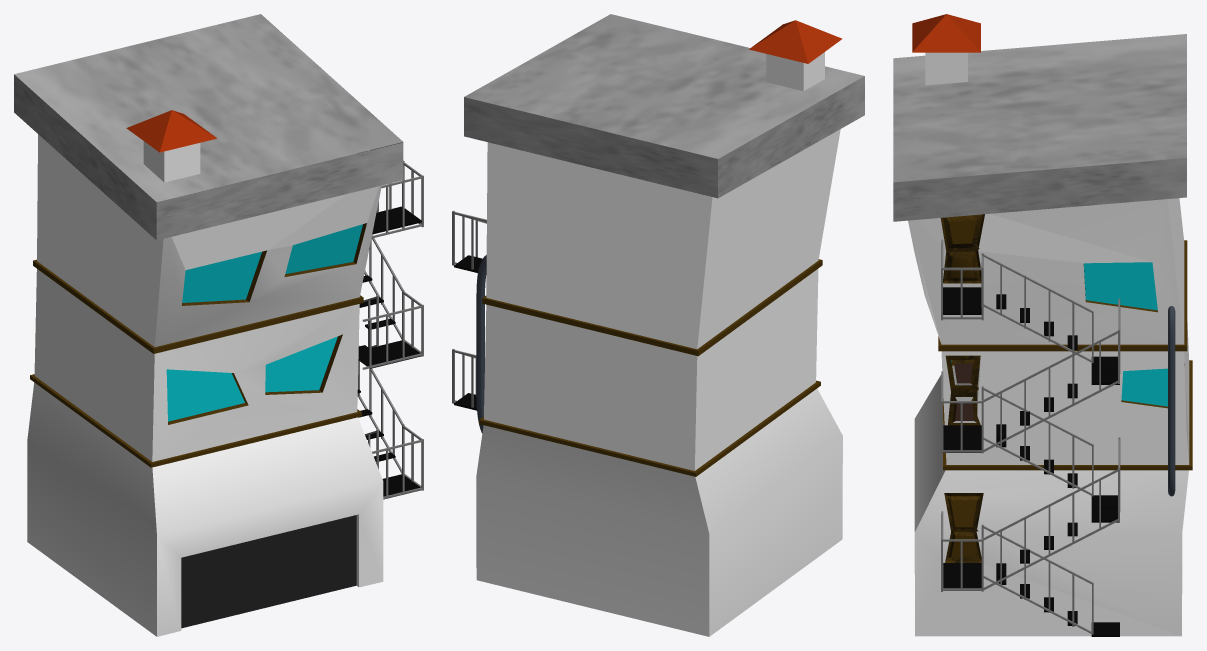
File: PredioTorto-BrancoLOD0.fbx
The picture shows the model from 3 angles, left to right: view 1: azimuth 30°, elevation 25°; view 2: azimuth 150°, elevation 25°; view 3: azimuth 270°, elevation 25°; orthographic projection. The views are drawn at different scales.
Visible parts, largest first — view 1: Predio3Andares; view 2: Predio3Andares; view 3: Predio3Andares.
Part boxes in pixels (bbox=[...]): Predio3Andares: bbox=[14, 14, 423, 636]; Predio3Andares: bbox=[452, 14, 864, 636]; Predio3Andares: bbox=[893, 14, 1192, 636].
Size of the model in its own units: 1035 by 1727 by 895.
